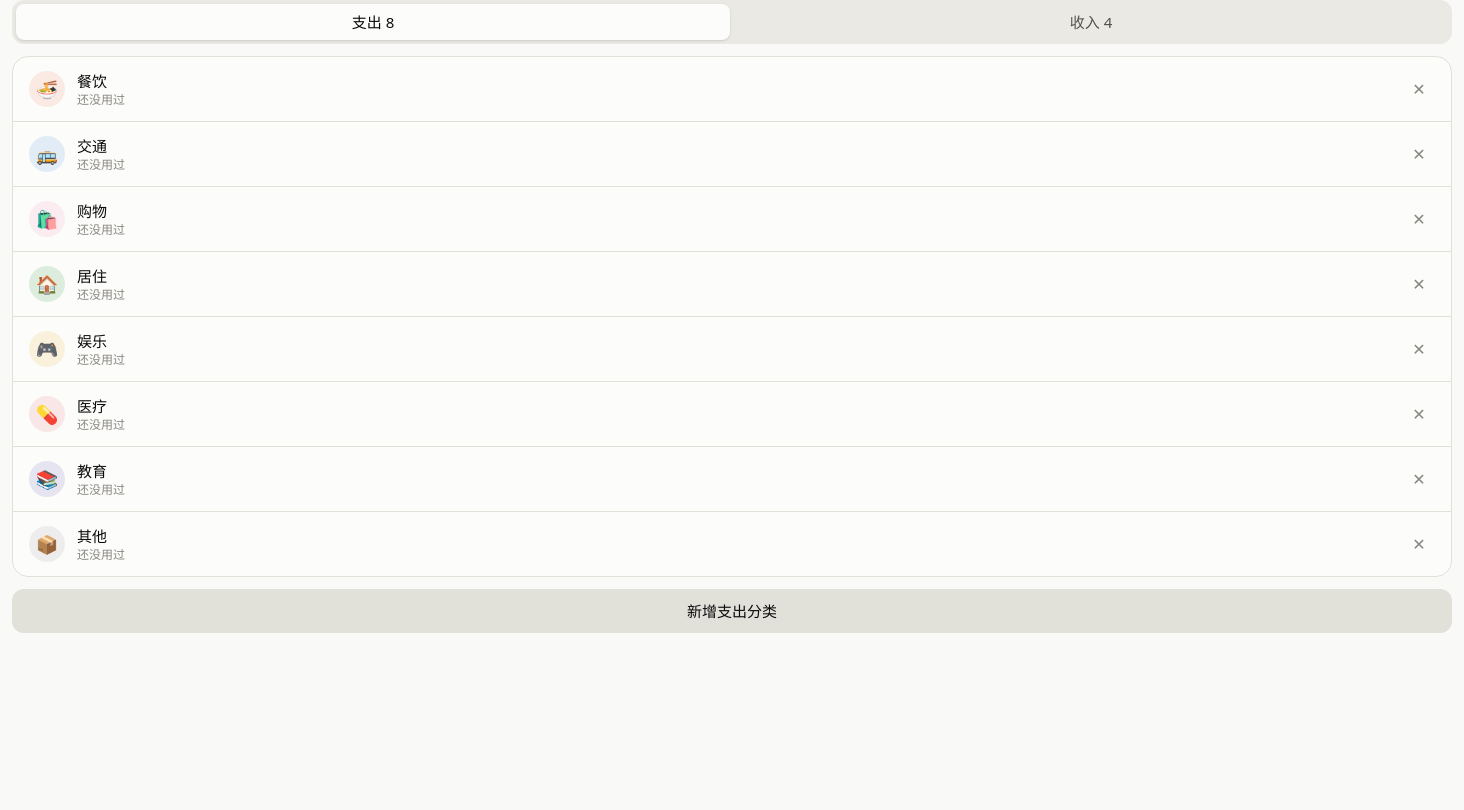
删除 › 没人引用的分类点一下就删掉，列表同步消失
What coordinates should you click on to do the following:
click the button named "删除分类 娱乐"
I would click on:
 (1419, 349)
Its box is [1399,329,1439,369].
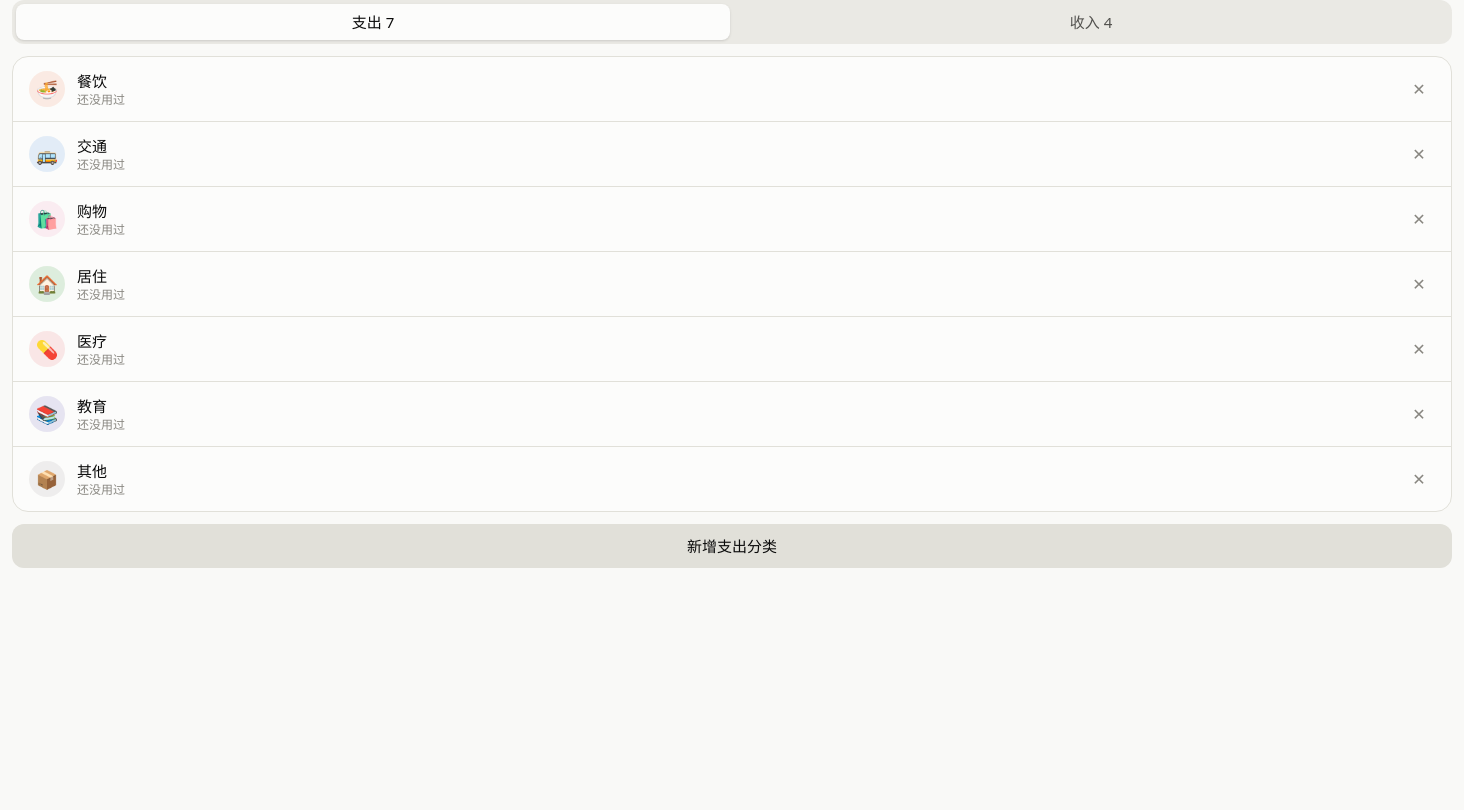
Result: the text "娱乐" is gone
